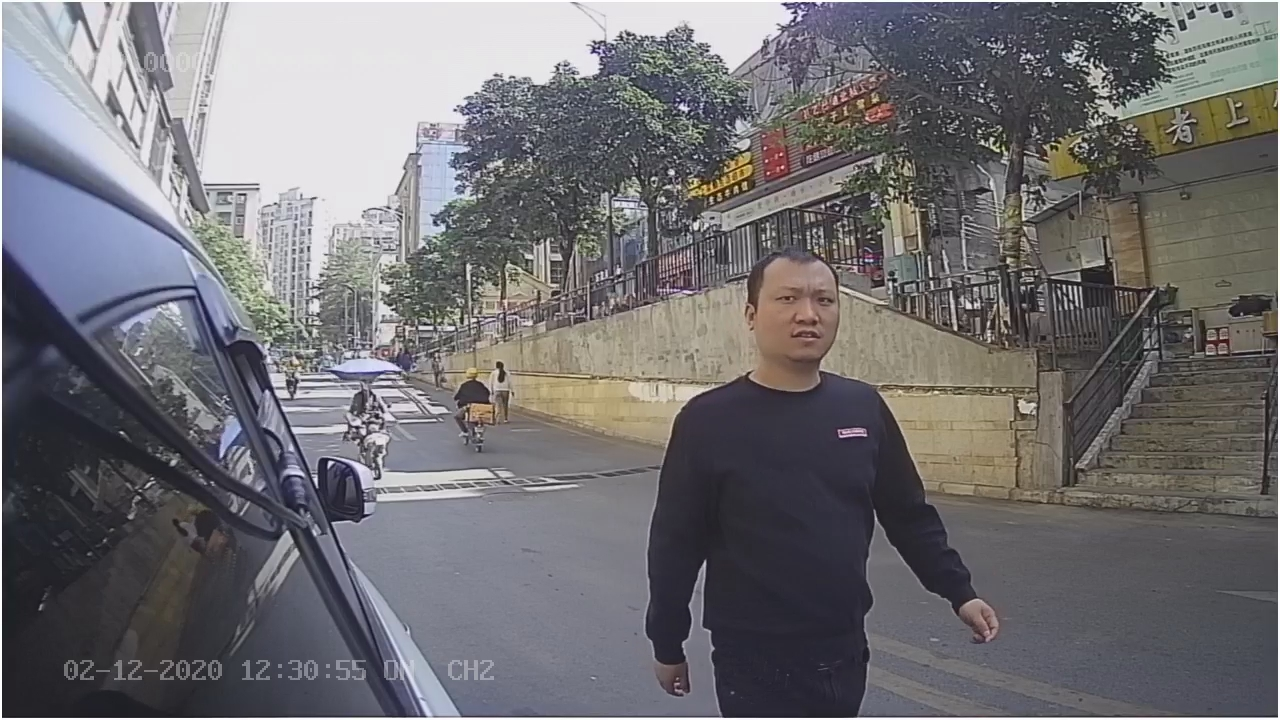person: (617, 238, 1006, 692)
